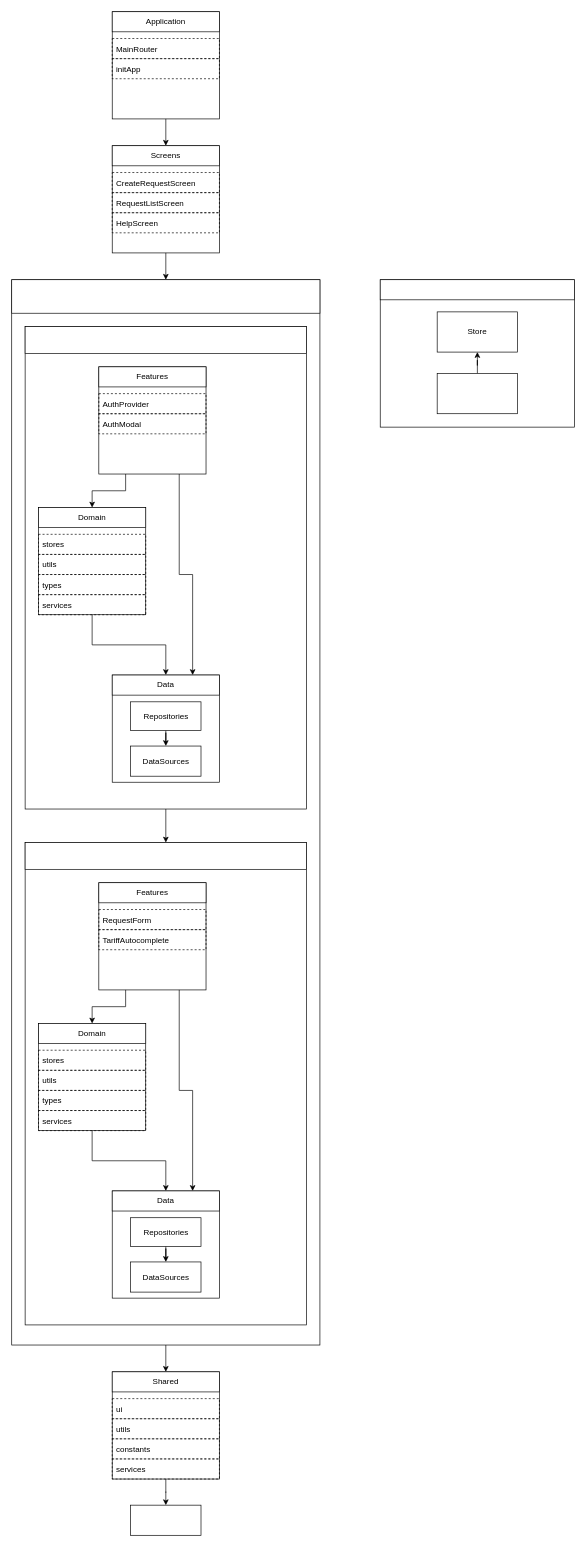
The diagram is 586 pixels wide and 1547 high, and some of its shapes have lost their labels. Each missing label, with the centre of its shape:
AuthModule: (x=165, y=339)
Component.tsx: (x=477, y=393)
Feature: (x=477, y=289)
LIB: (x=165, y=1519)
Modules: (x=165, y=296)
RequestModule: (x=165, y=855)
